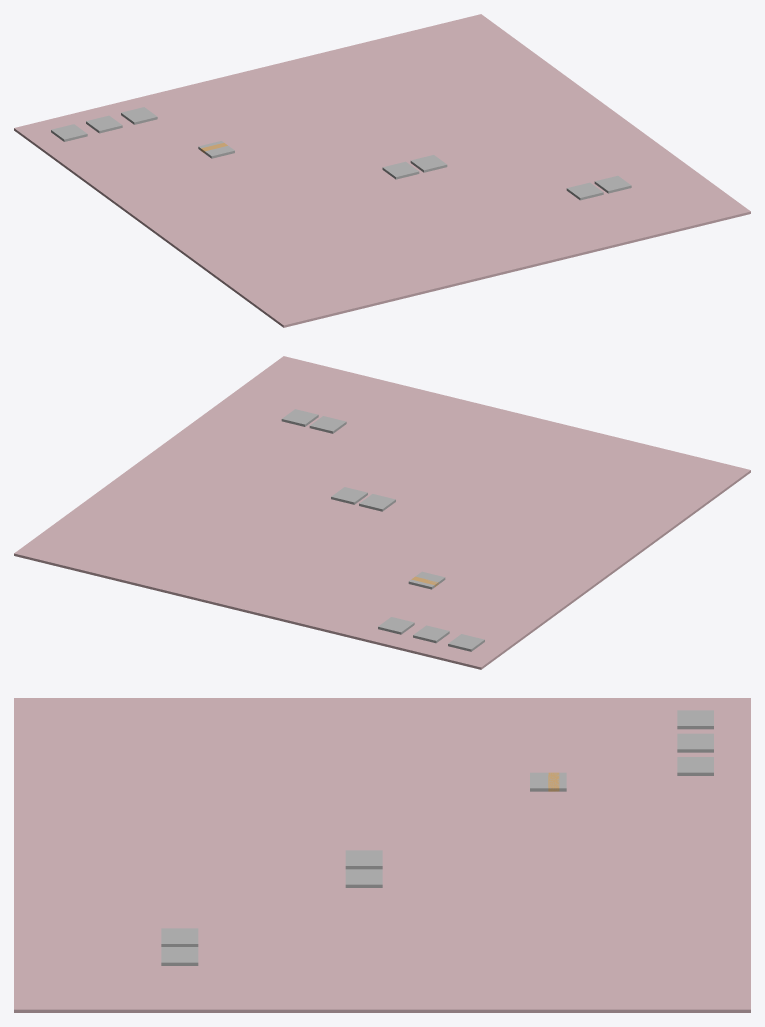
The model's file is board.glb.
The picture shows the model from 3 angles, top to bottom: view 1: azimuth 30°, elevation 25°; view 2: azimuth 150°, elevation 25°; view 3: azimuth 270°, elevation 25°; orthographic projection. The views are drawn at different scales.
Visible parts, largest first — view 1: Substrate_Layer_0_Z0; view 2: Substrate_Layer_0_Z0; view 3: Substrate_Layer_0_Z0, Chain_1, Gate_A, Gate_B, Chain_2, Chain_3, Chain_4, Gate_C, Power_Reg.
Boxes of the visible parts, left/top/right/bottom form: Substrate_Layer_0_Z0: left=14, top=14, right=750, bottom=327; Substrate_Layer_0_Z0: left=14, top=356, right=750, bottom=669; Substrate_Layer_0_Z0: left=14, top=698, right=750, bottom=1012; Chain_1: left=345, top=850, right=382, bottom=869; Gate_A: left=677, top=710, right=713, bottom=729; Gate_B: left=677, top=733, right=713, bottom=752; Chain_2: left=345, top=869, right=382, bottom=887; Chain_3: left=161, top=928, right=198, bottom=946; Chain_4: left=161, top=947, right=198, bottom=965; Gate_C: left=677, top=757, right=713, bottom=775; Power_Reg: left=530, top=772, right=566, bottom=791.
Size of the model in its own units: 0.0002 by 2e-06 by 0.0002.
